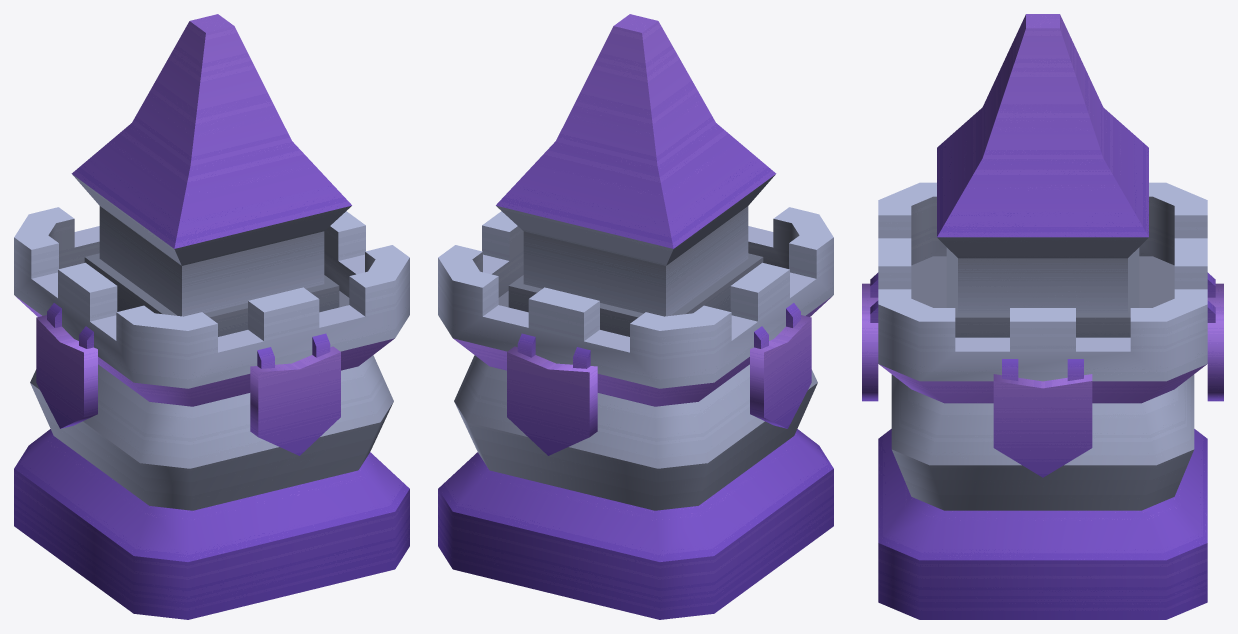
Rendered from tower-defense-kit--tower-square-build-d.glb.
3 views of the same model, side by side, from view 1: azimuth 30°, elevation 25°; view 2: azimuth 150°, elevation 25°; view 3: azimuth 270°, elevation 25° (orthographic). The views are drawn at different scales.
Visible parts, largest first — view 1: tower-square-build-d; view 2: tower-square-build-d; view 3: tower-square-build-d.
Boxes of the visible parts, x1,y1,x2,y2 form: tower-square-build-d: (14,14,409,619); tower-square-build-d: (438,14,833,619); tower-square-build-d: (862,14,1223,619).
Bounding box in the file's own units: 1.1 × 1.77 × 1.1.
Materials: 1 (1 with a texture image).
